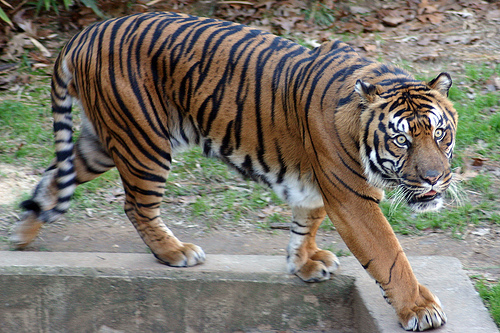Tigre: (55, 12, 463, 319)
